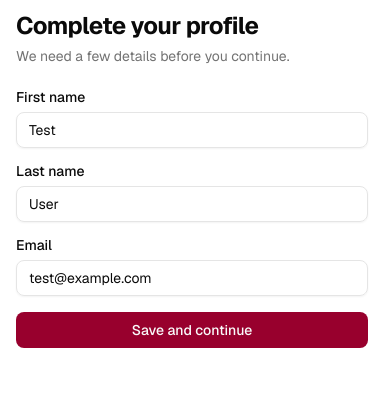
Scenario: CompleteProfileForm › shows error when profile insert fails
Click the button "Save and continue" at (192, 330), box [16, 312, 368, 348]
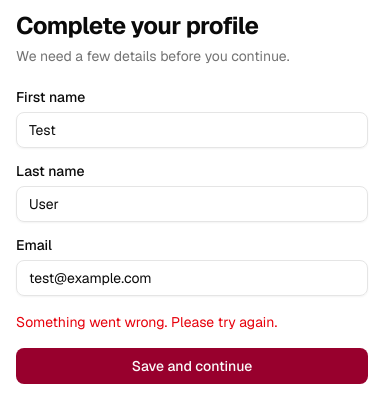
Result: the text "Something went wrong. Please try again." is shown at [16, 313, 277, 331]
